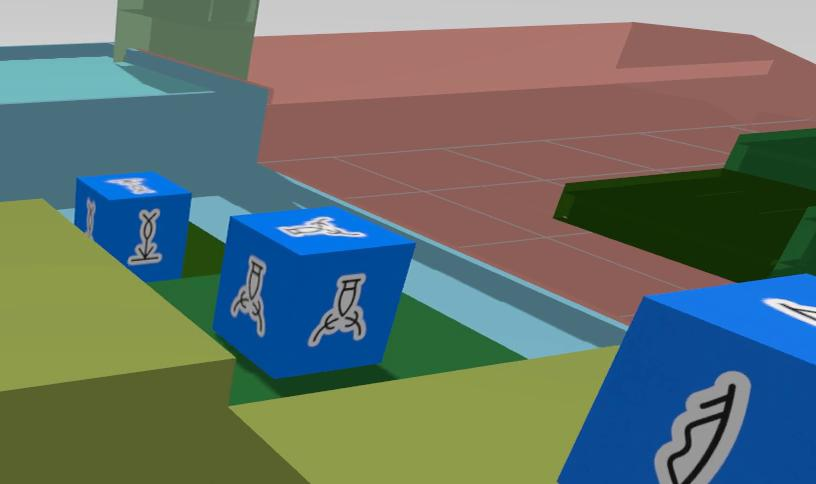KFS_FAKE: (654, 371, 749, 483)
KFS_REAL: (373, 0, 731, 29)
